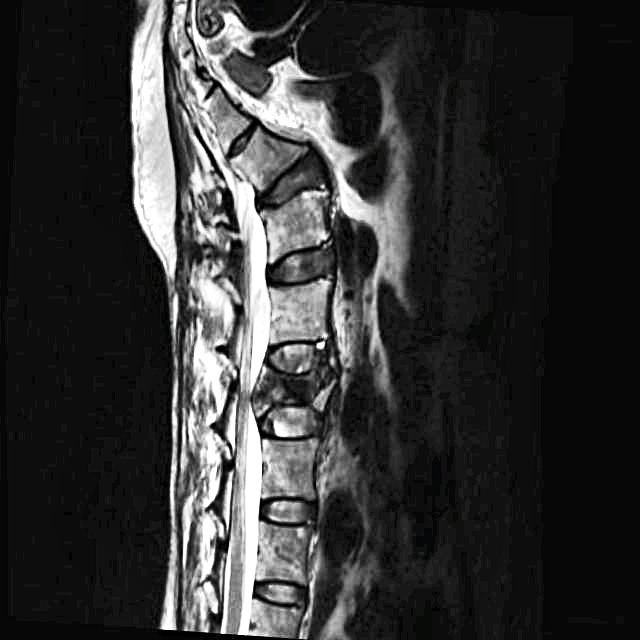Comminuted: (234, 328, 351, 448)
